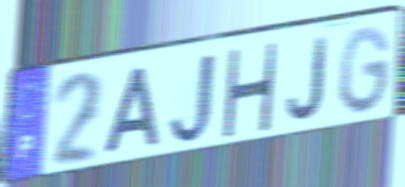2: (51, 69, 105, 173)
A: (100, 64, 162, 159)
G: (338, 23, 393, 118)
H: (219, 41, 280, 139)
J: (166, 49, 219, 148), (285, 34, 329, 124)
